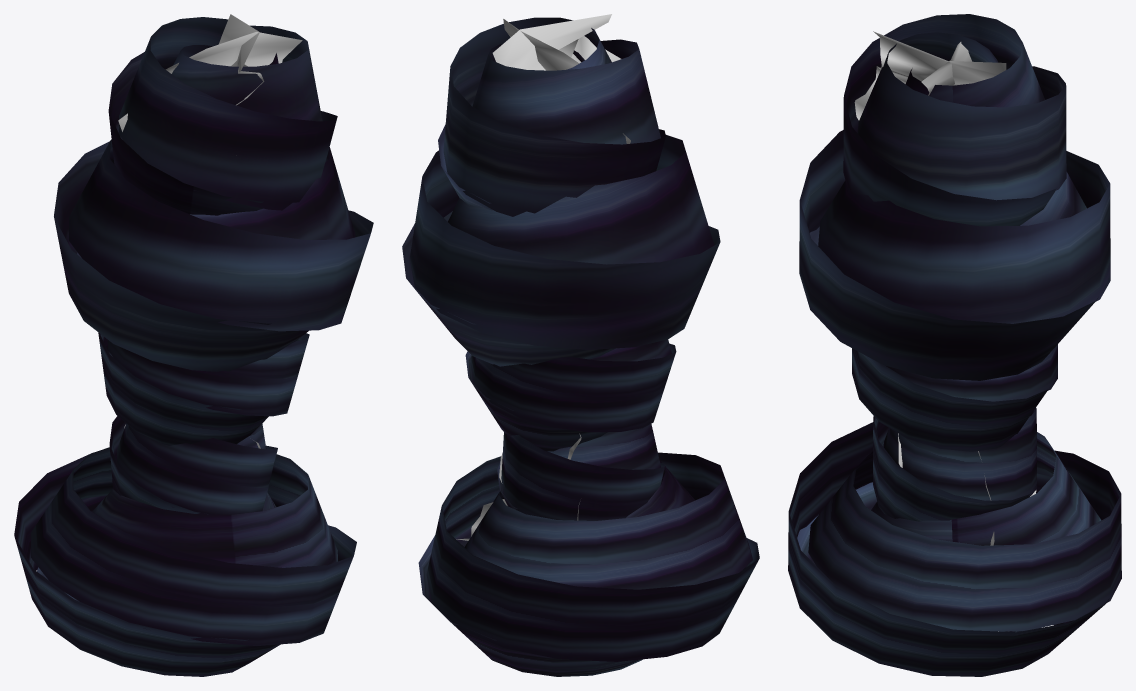
The model's file is longjuanfeng_model.FBX.
3 views of the same model, side by side, from view 1: azimuth 30°, elevation 25°; view 2: azimuth 150°, elevation 25°; view 3: azimuth 270°, elevation 25° (orthographic). The views are drawn at different scales.
Parts seen in each view (by area): view 1: 风, 电流; view 2: 风, 电流; view 3: 风, 电流.
Boxes of the visible parts, x1,y1,x2,y2 form: 风: [14, 17, 373, 676]; 电流: [118, 14, 302, 448]; 风: [402, 17, 759, 676]; 电流: [456, 14, 630, 540]; 风: [788, 14, 1121, 676]; 电流: [854, 31, 1036, 545].
Bounding box in the file's own units: 152 × 273 × 134.
